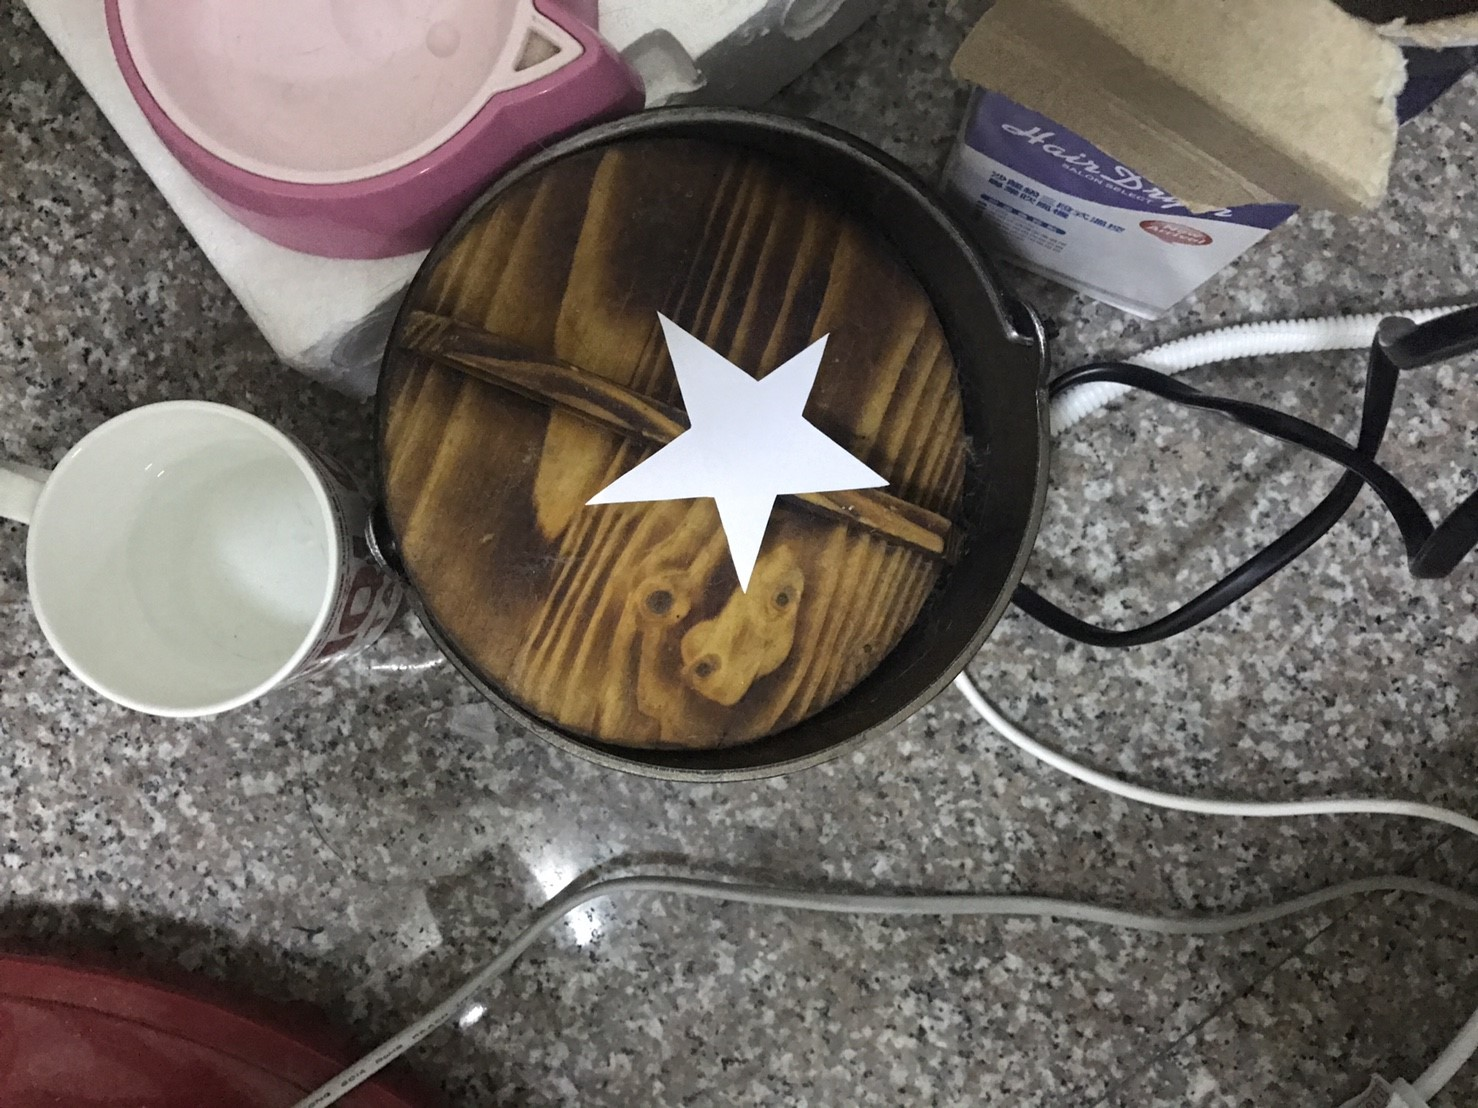star: (576, 269, 914, 595)
